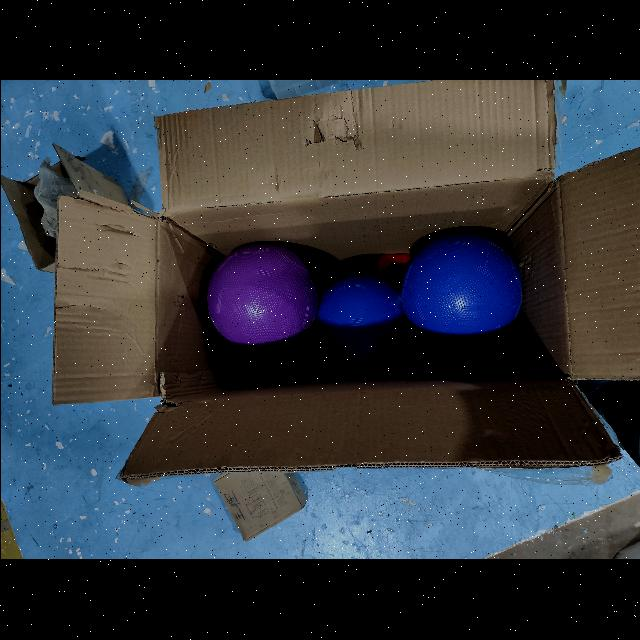B: (398, 230, 520, 356), (314, 273, 414, 377)
P: (201, 239, 323, 357)
